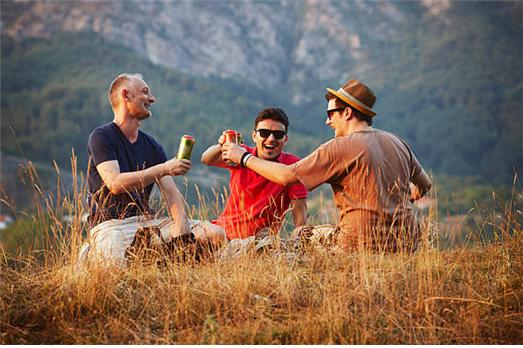alcohol: (175, 134, 196, 164), (224, 130, 241, 167)
